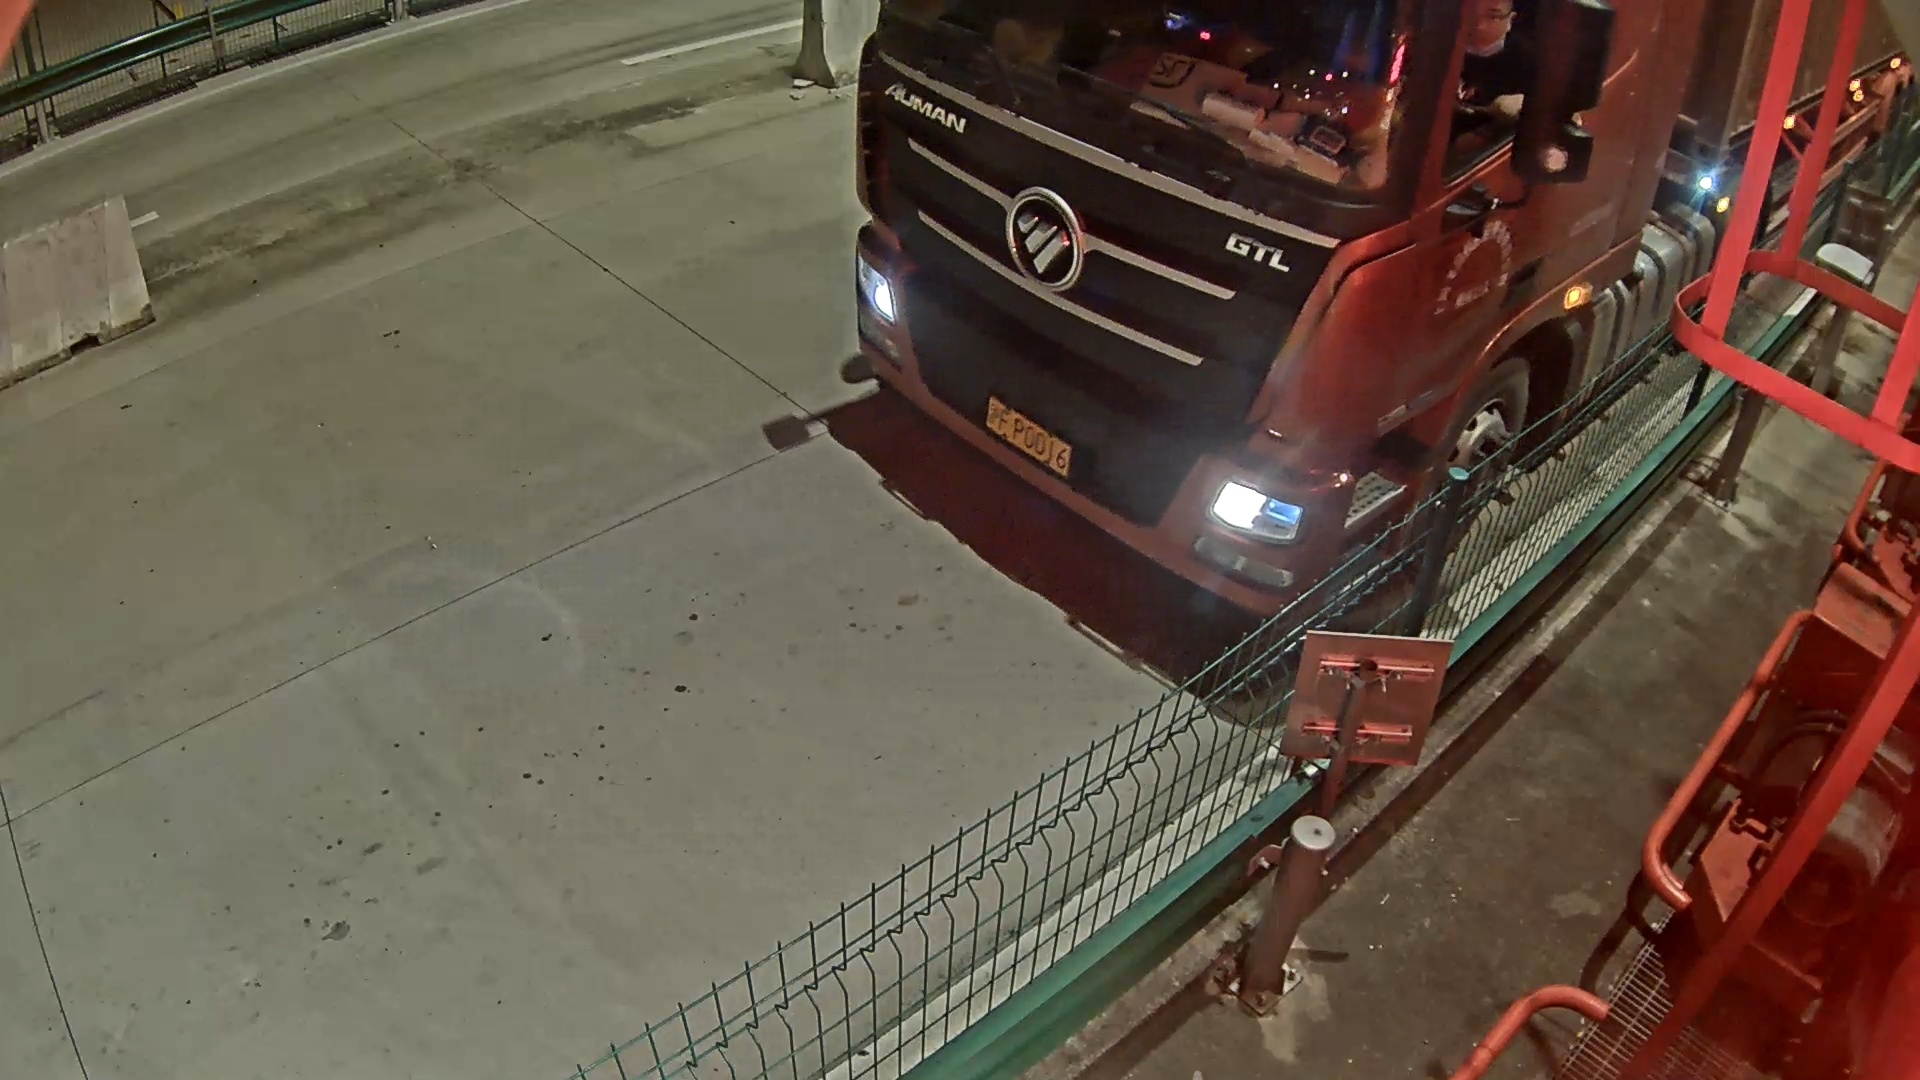head: (860, 13, 1571, 647)
plate: (980, 384, 1097, 496)
